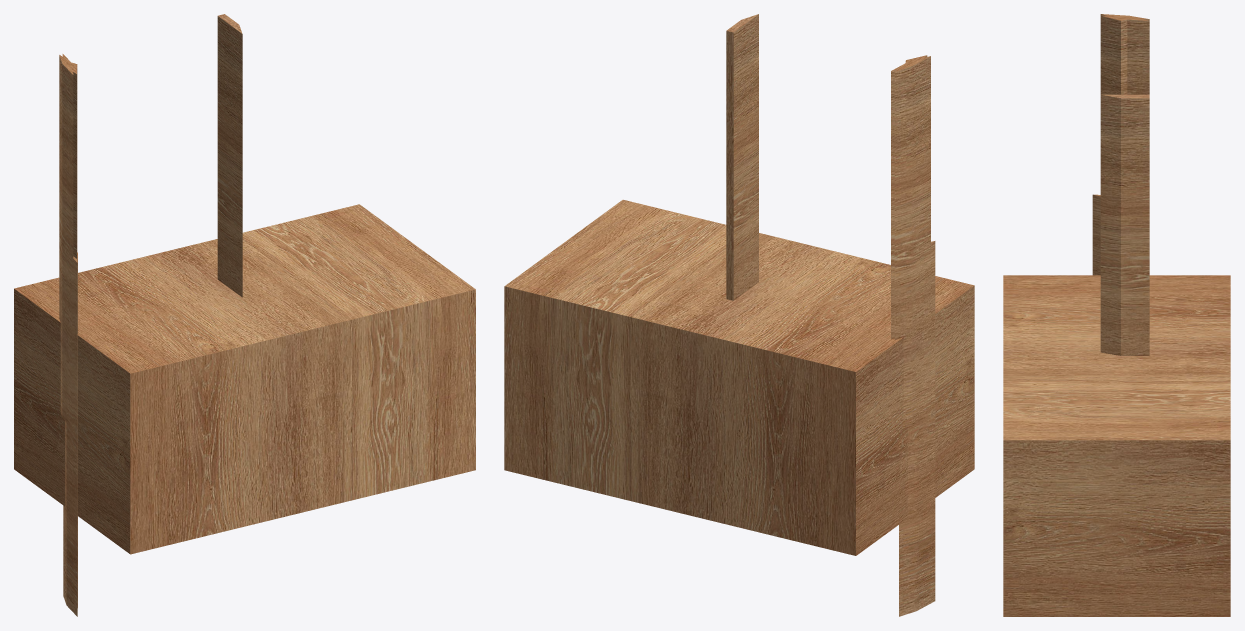
Rendered from 49088_deepcad-end2end.glb.
3 renders of one model, left to right at view 1: azimuth 30°, elevation 25°; view 2: azimuth 150°, elevation 25°; view 3: azimuth 270°, elevation 25°, orthographic. The views are drawn at different scales.
Parts seen in each view (by area): view 1: test_cmd_49088_pred; view 2: test_cmd_49088_pred; view 3: test_cmd_49088_pred.
Boxes of the visible parts, x1,y1,x2,y2 form: test_cmd_49088_pred: (14, 14, 475, 616); test_cmd_49088_pred: (504, 14, 974, 616); test_cmd_49088_pred: (1003, 14, 1230, 616).
Size of the model in its own units: 0.6853 by 1 by 0.3916.
Materials: 1 (1 with a texture image).
